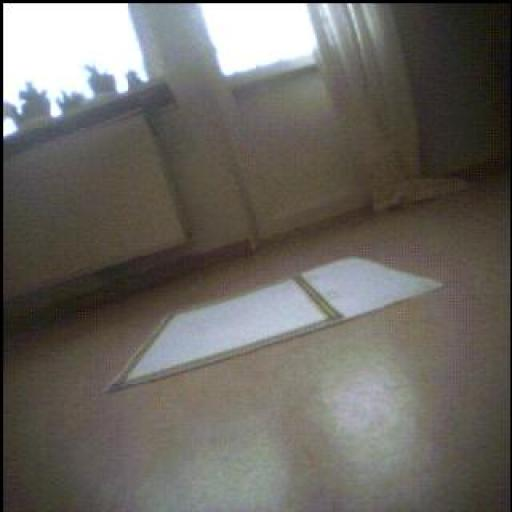Pad: (110, 259, 443, 390)
